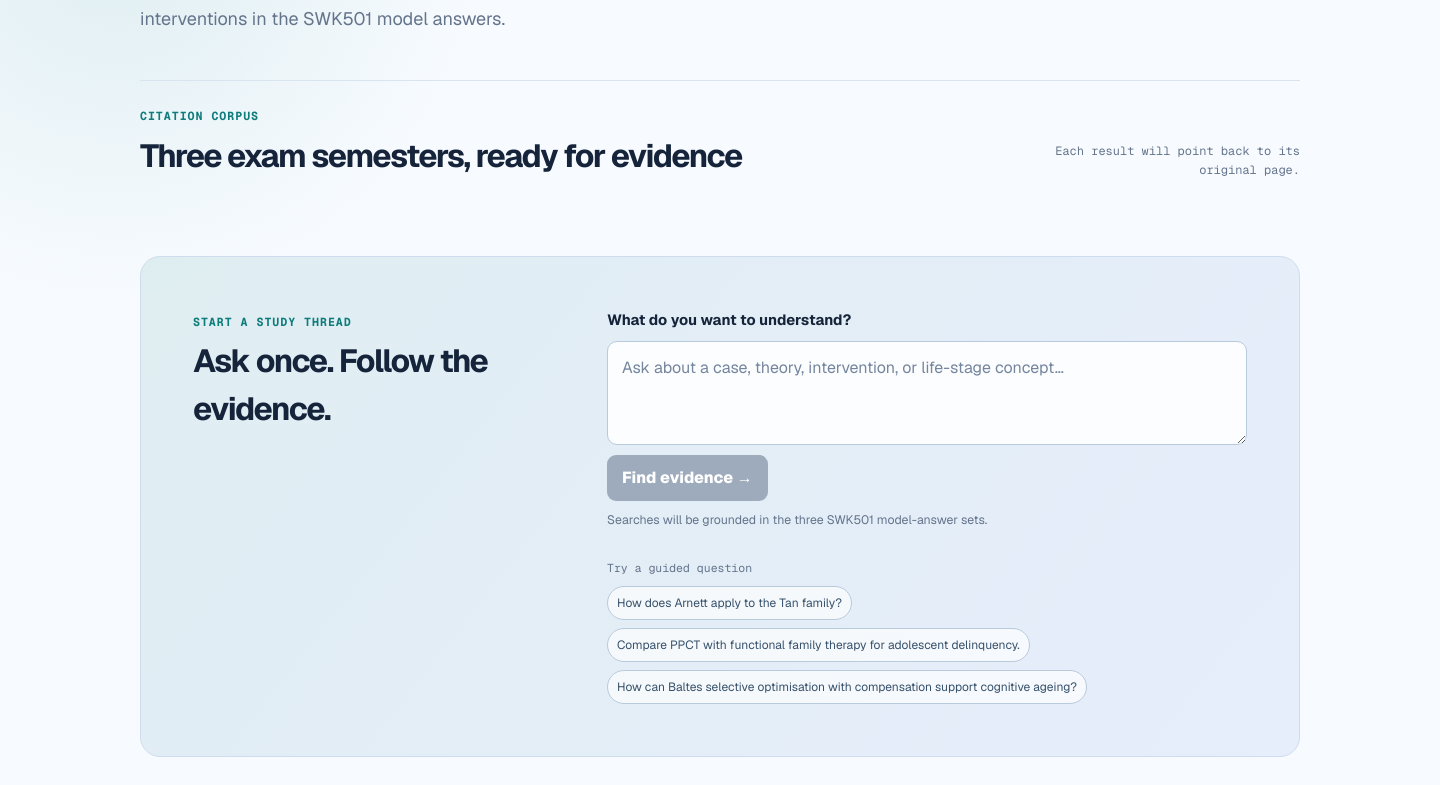
surfaces a rate limit and preserves the server retry delay
This screenshot has width=1440, height=785.
(page scrolled)
Type "Explain Arnett" into the text box at {"x": 927, "y": 393}, box [607,341,1247,445]
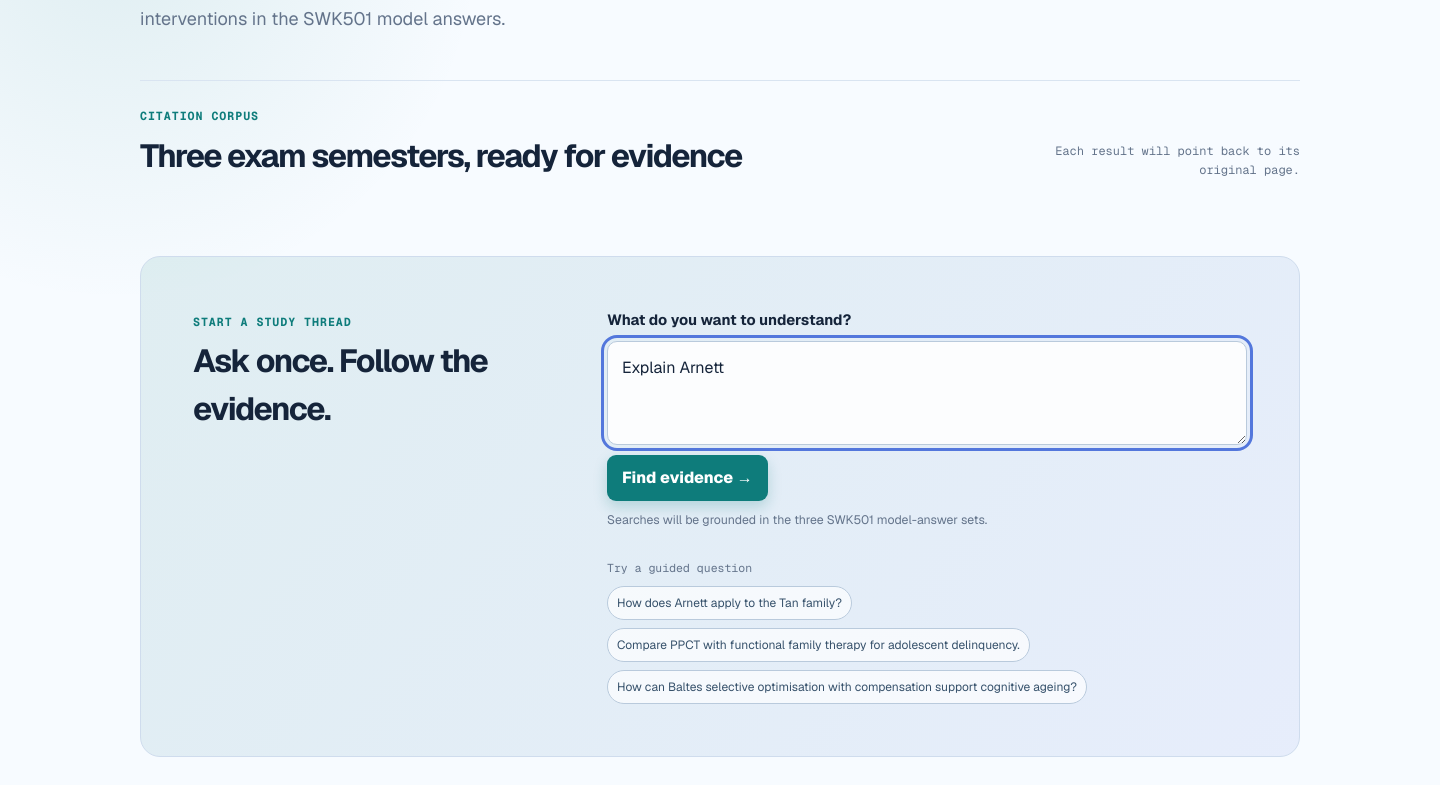
Click the button "Find evidence →" at {"x": 687, "y": 478}, box [607,455,768,501]
(page scrolled)
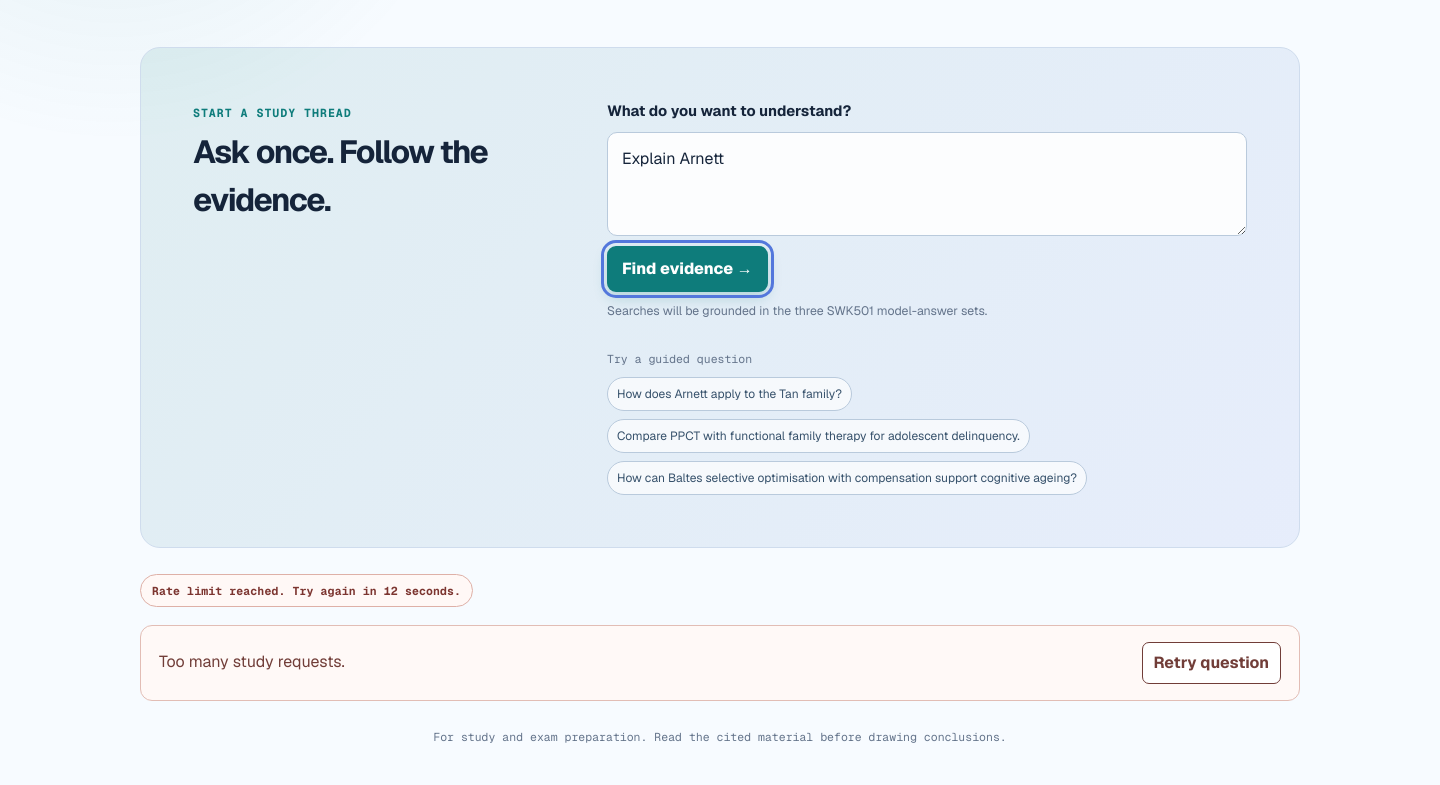
Expected: the text "Rate limit reached. Try again in 12 seconds." is shown, [140,574,473,607]
Expected: the text "Too many study requests." is shown, [159,650,345,675]
Expected: the button "Retry question" is shown, [1142,642,1281,684]
